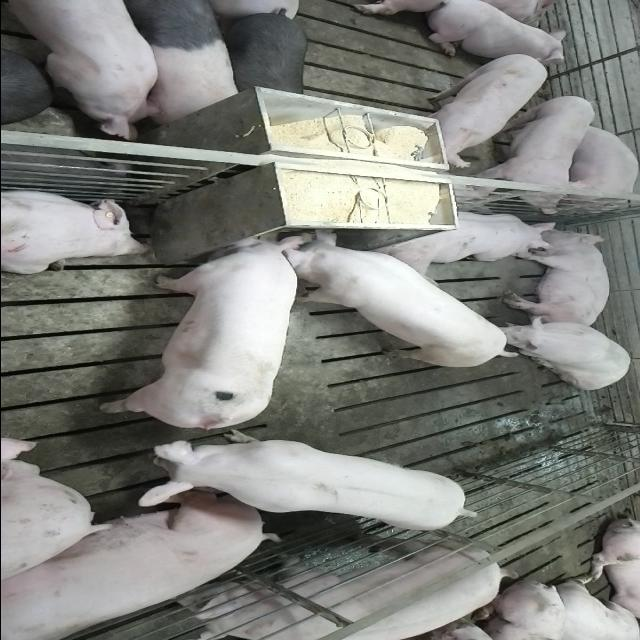Feeding: (94, 232, 294, 433), (268, 232, 518, 371)
Lateral_lying: (5, 493, 278, 636), (501, 228, 611, 329)
Sitting: (484, 316, 634, 391)
Standing: (166, 534, 516, 640), (126, 430, 482, 533), (0, 2, 164, 142), (402, 52, 548, 166), (110, 2, 240, 128), (471, 94, 598, 216), (208, 7, 308, 101), (0, 33, 53, 124)
Sternal_lying: (0, 186, 150, 274), (373, 208, 557, 272), (418, 2, 568, 61), (553, 124, 637, 208)
